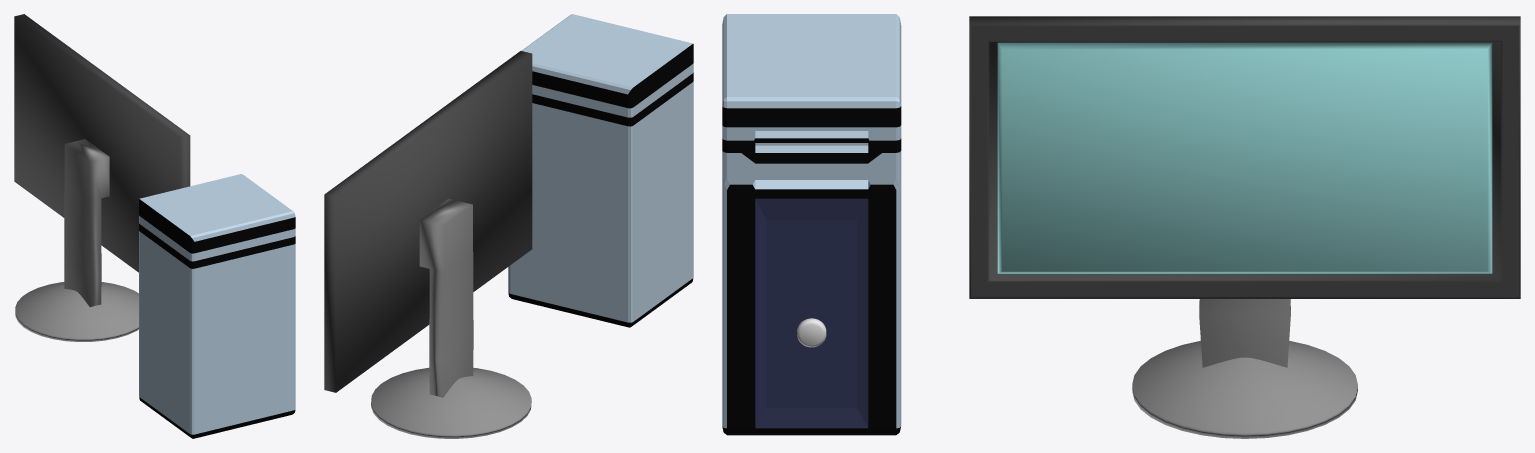
File: Computador.fbx
The picture shows the model from 3 angles, left to right: view 1: azimuth 30°, elevation 25°; view 2: azimuth 150°, elevation 25°; view 3: azimuth 270°, elevation 25°; orthographic projection. The views are drawn at different scales.
Parts seen in each view (by area): view 1: Cube.004, Cube.003, Cube.002, Cylinder.001; view 2: Cube.004, Cube.003, Cube.002, Cylinder.001; view 3: Cube.003, Cube.004, Cylinder.001, Cube.002.
Boxes of the visible parts, x1,y1,x2,y2 form: Cube.004: (139, 174, 295, 438); Cube.003: (14, 14, 190, 272); Cube.002: (64, 139, 109, 307); Cylinder.001: (15, 282, 138, 341); Cube.004: (508, 14, 693, 327); Cube.003: (324, 51, 532, 392); Cube.002: (419, 198, 473, 397); Cylinder.001: (371, 367, 531, 438); Cube.003: (969, 16, 1520, 298); Cube.004: (722, 14, 901, 435); Cylinder.001: (1132, 340, 1357, 438); Cube.002: (1199, 299, 1290, 367).
Bounding box in the file's own units: 989 × 1861 × 3479.
